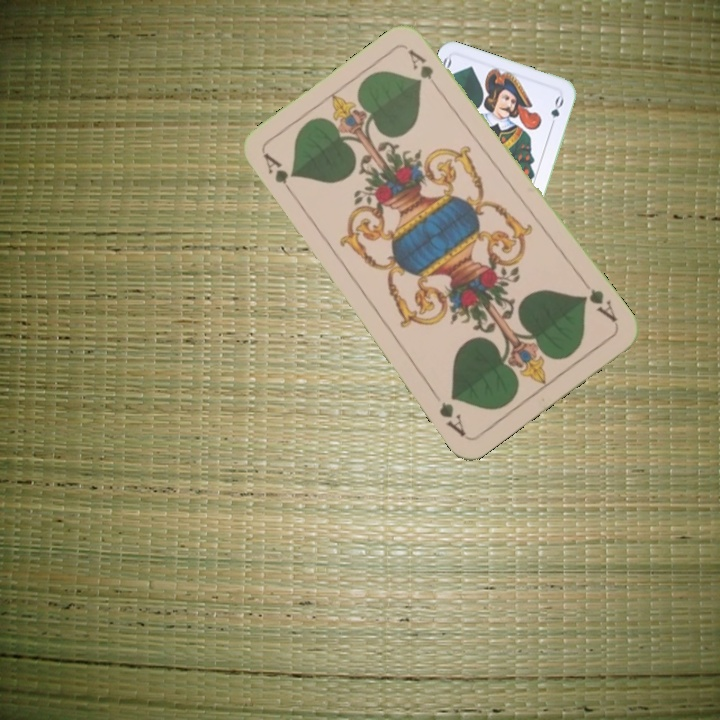GA: (259, 150, 300, 202), (578, 285, 621, 325)
